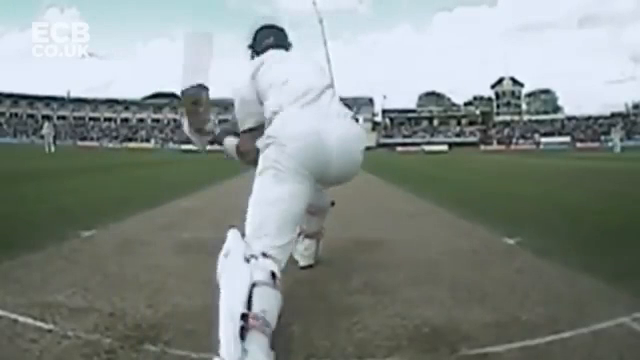batsman: (179, 24, 367, 358)
